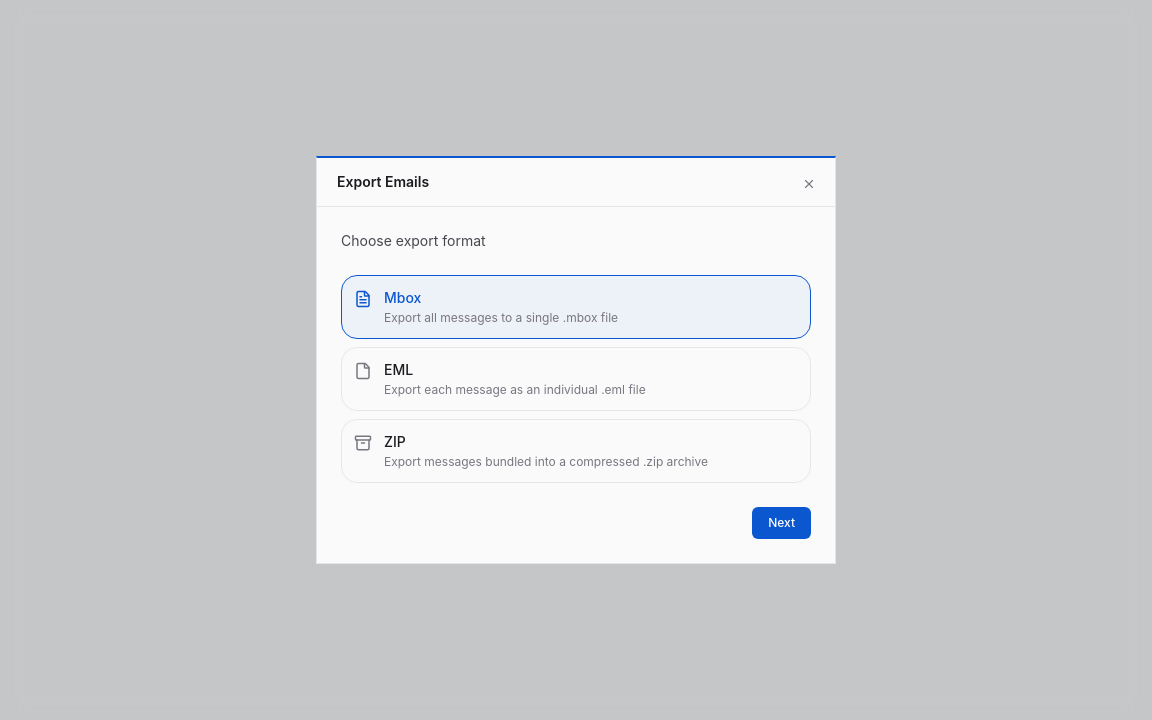
Test case: ExportDialog › transitions from format to filter step on Next
This screenshot has width=1152, height=720.
Click the button "Next" at (782, 523), box [752,507,811,539]
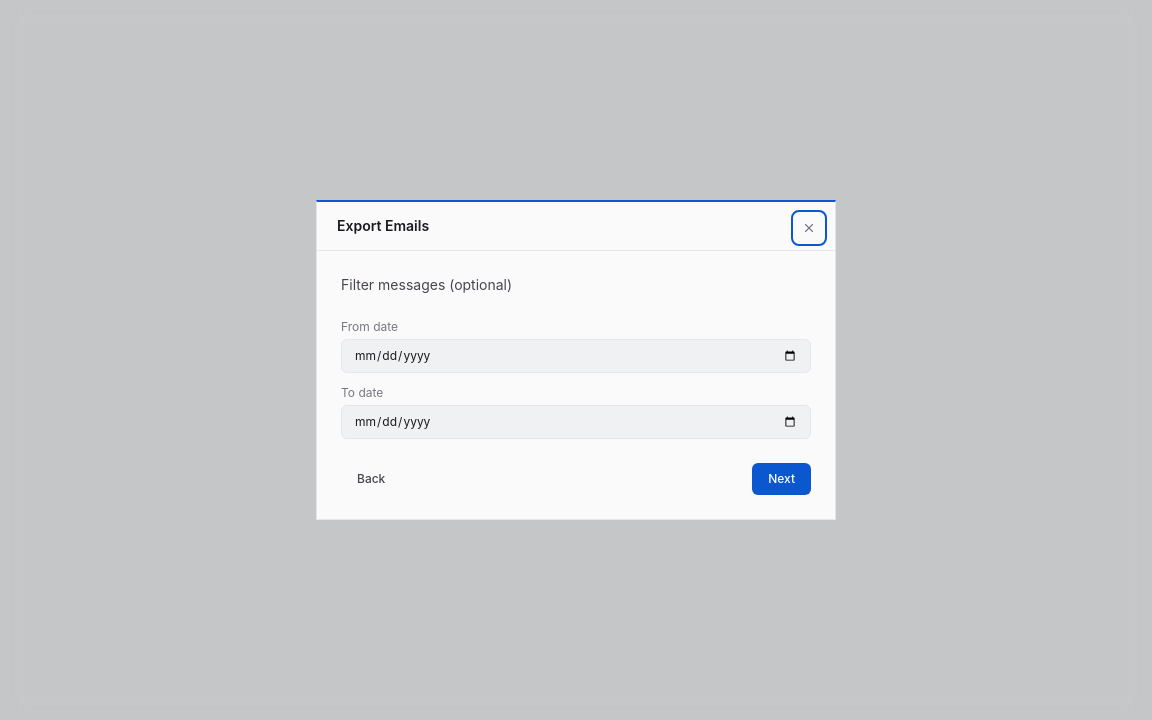
Now the text "Filter messages (optional)" is shown, box [341,276,512,293]
